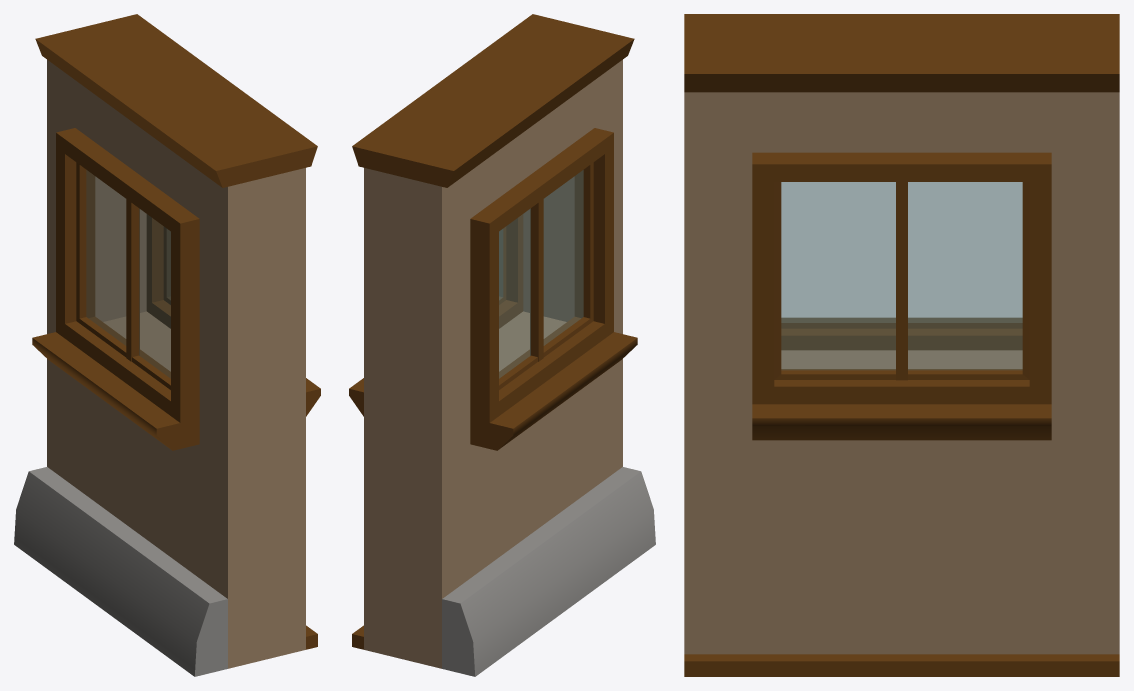
Rendered from SM_Wall_Window_v2.fbx.
3 renders of one model, left to right at view 1: azimuth 30°, elevation 25°; view 2: azimuth 150°, elevation 25°; view 3: azimuth 270°, elevation 25°, orthographic. The views are drawn at different scales.
Parts seen in each view (by area): view 1: SM_Wall_Window_v2, SM_Window; view 2: SM_Wall_Window_v2, SM_Window; view 3: SM_Wall_Window_v2, SM_Window.
Part boxes in pixels (box(x1,y1,x2,y2)): SM_Wall_Window_v2: box(14, 14, 320, 676); SM_Window: box(86, 170, 170, 378); SM_Wall_Window_v2: box(349, 14, 655, 676); SM_Window: box(499, 170, 583, 378); SM_Wall_Window_v2: box(684, 14, 1119, 676); SM_Window: box(781, 182, 1022, 369).
Bounding box in the file's own units: 105 × 306 × 200.
